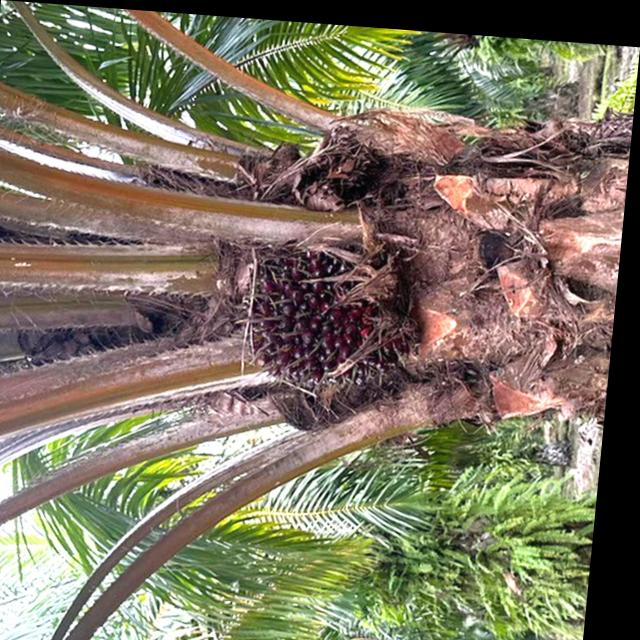ripe: (235, 231, 407, 385)
